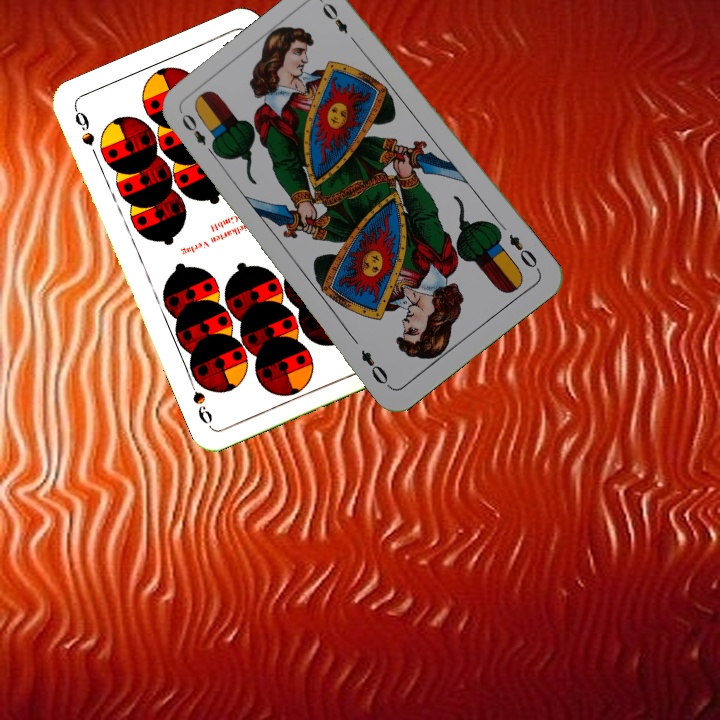EO: (177, 109, 220, 160), (504, 230, 543, 274)
S9: (70, 104, 98, 149)
